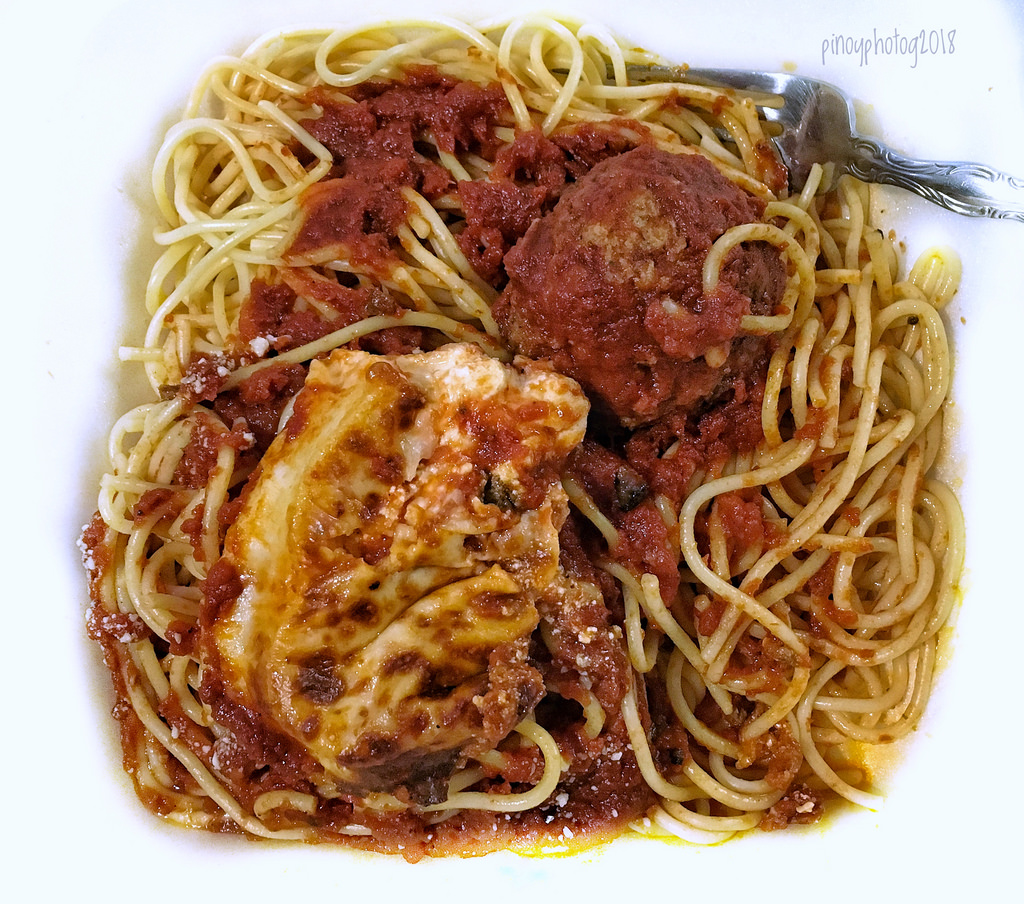plain spaghetti: (152, 45, 909, 813)
